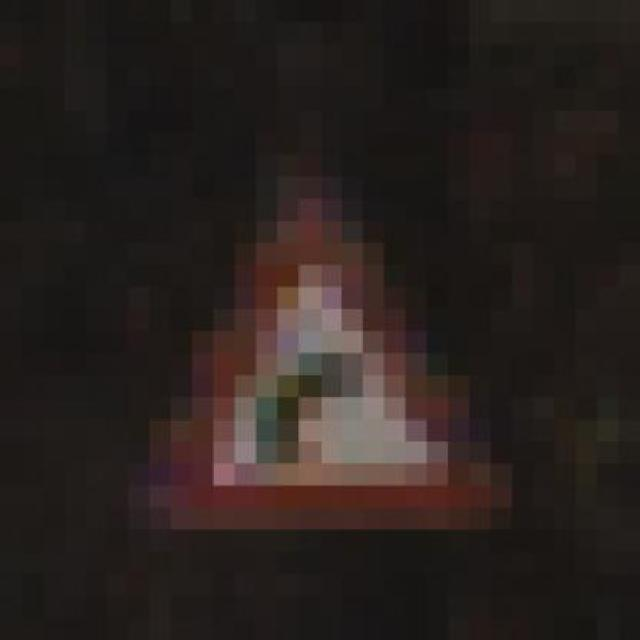Dangerous Rright Curve Ahead: (106, 132, 512, 552)
